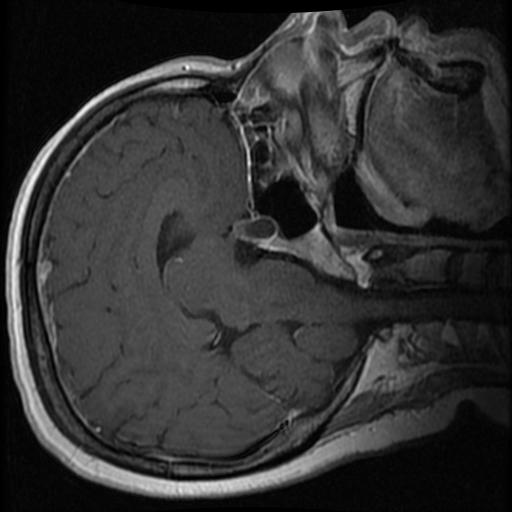pituitary tumour: (231, 214, 278, 248)
